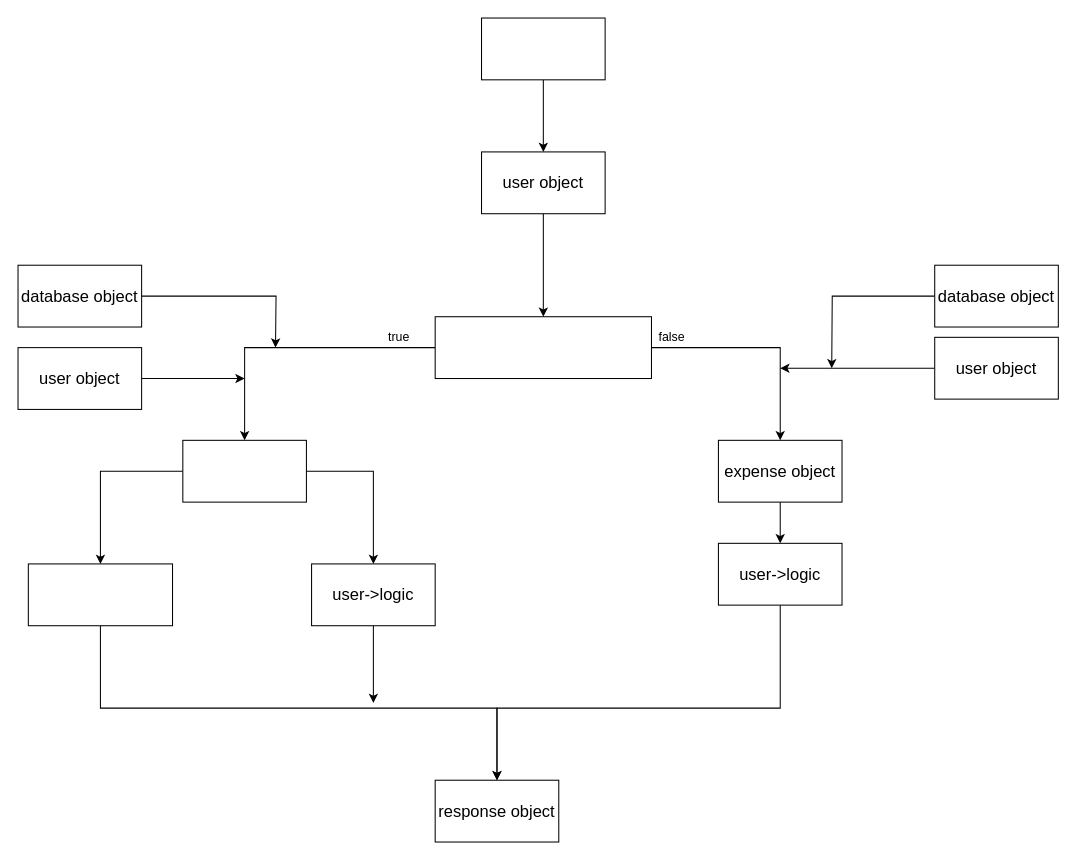
This 1076x860 diagram has some shape labels left out. Here are the shapes that lost their labels. From the top down, the centre of each, then its label:
At (542,48): "handler.php".
At (542,347): "command::isCommand()".
At (244,470): "command object".
At (100,594): "command->logic".
